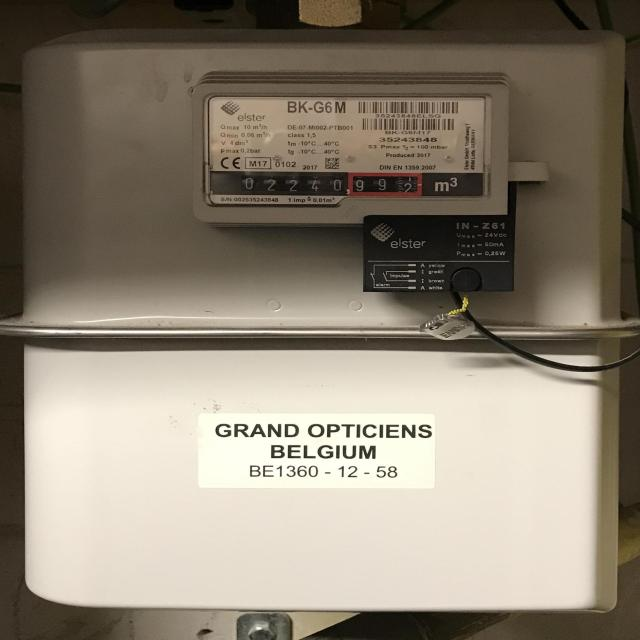gaz_meter: (203, 92, 498, 201)
indication: (230, 171, 427, 200)
